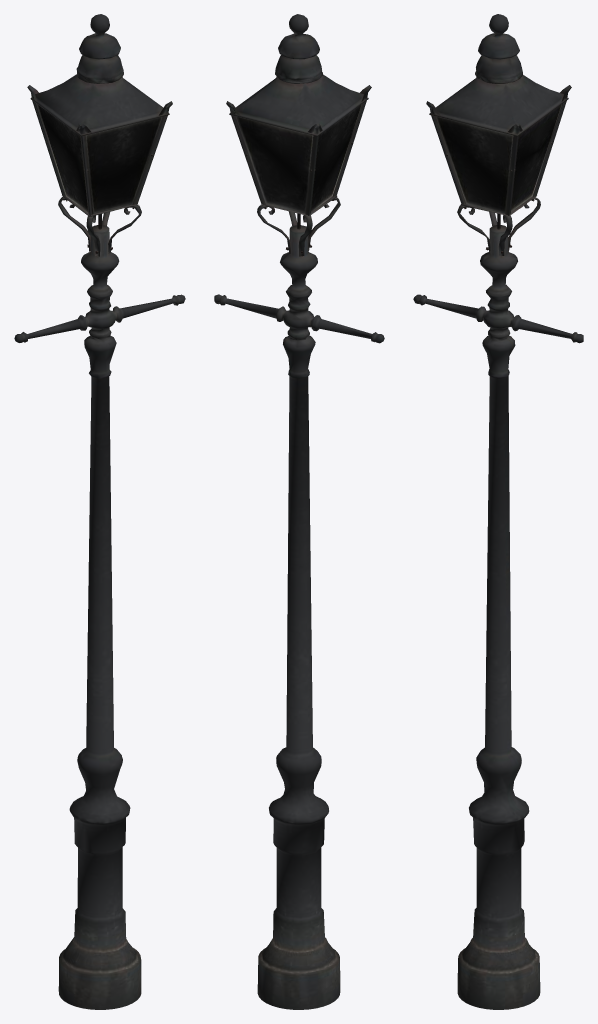
The model's file is p_street_lamp_01.glb.
3 views of the same model, side by side, from view 1: azimuth 30°, elevation 25°; view 2: azimuth 150°, elevation 25°; view 3: azimuth 330°, elevation 25° (orthographic).
Parts seen in each view (by area): view 1: street_lamp_01; view 2: street_lamp_01; view 3: street_lamp_01.
Part boxes in pixels (<box>): street_lamp_01: <box>14,14,185,1009</box>; street_lamp_01: <box>214,14,384,1009</box>; street_lamp_01: <box>413,14,583,1009</box>.
Size of the model in its own units: 0.7027 by 3.87 by 0.3857.
Materials: 3 (3 with a texture image).
